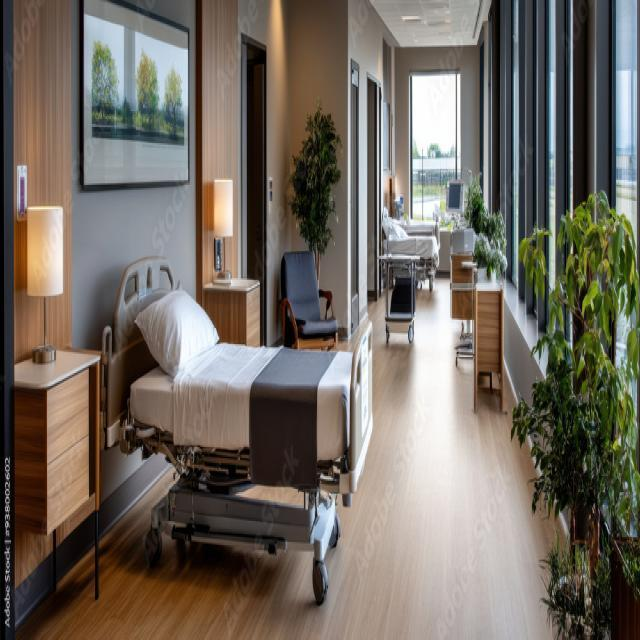Monitor: (444, 168, 464, 224)
bed: (101, 254, 373, 603), (380, 206, 440, 291)
chair: (281, 251, 350, 359)
